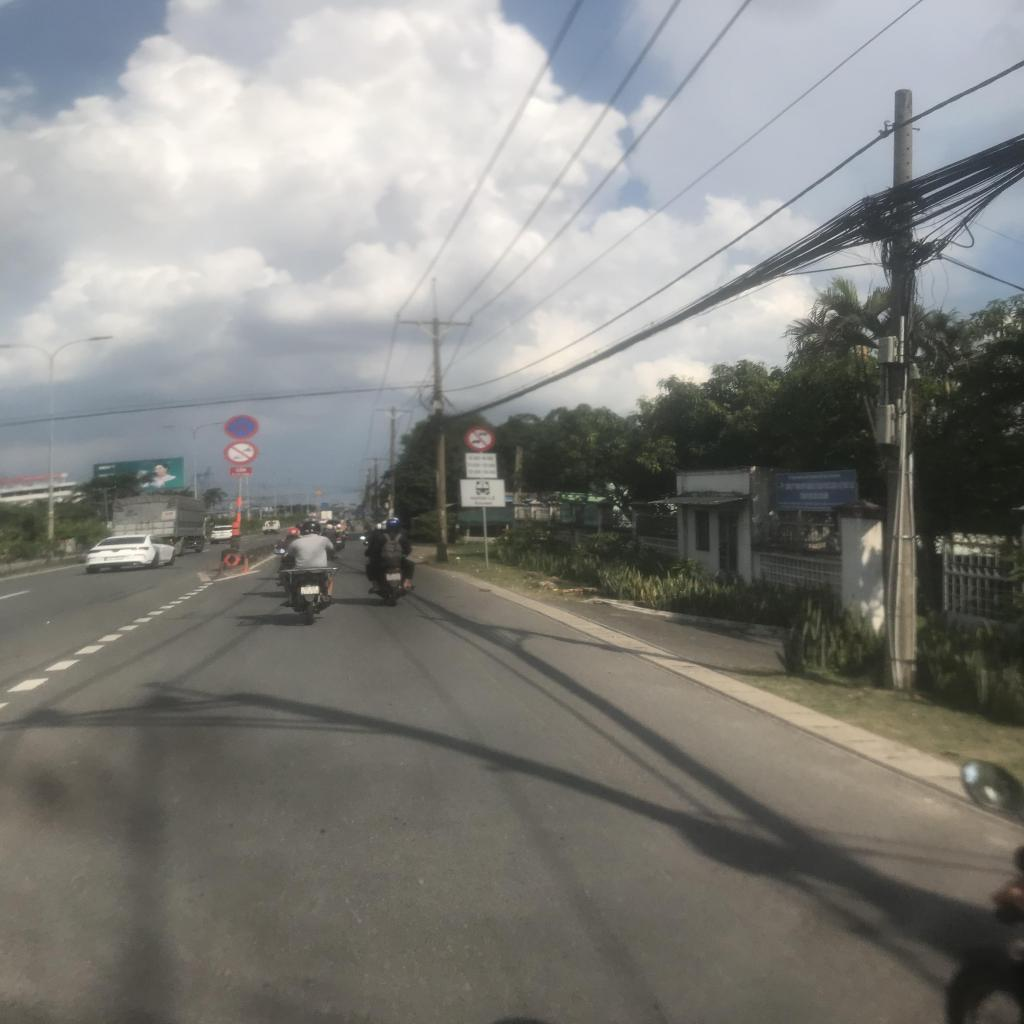cam_dung_xe_va_do_xe: (225, 415, 259, 440)
cam_o_to_tai_va_xe_khach: (465, 425, 495, 452)
cam_xe_2_banh_va_xe_3_banh_co_dong_co: (223, 441, 258, 465)
khac: (460, 480, 505, 508), (464, 453, 498, 478)
